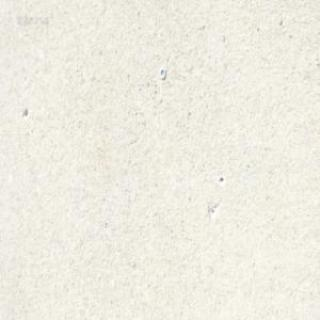Washertrack_idkeyframe: (158, 66, 166, 78)
